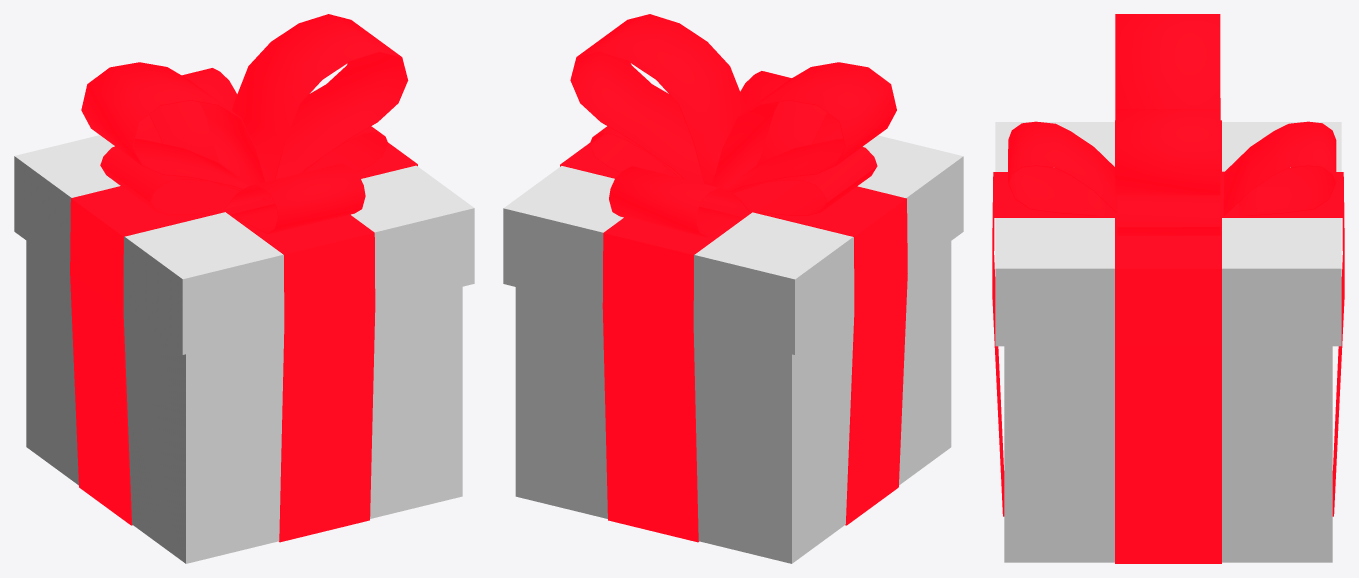
File: gift 2.gltf
3 renders of one model, left to right at view 1: azimuth 30°, elevation 25°; view 2: azimuth 150°, elevation 25°; view 3: azimuth 270°, elevation 25°, orthographic. The views are drawn at different scales.
Parts seen in each view (by area): view 1: Cube_0, Cube.001_3, BezierCurve_6, Plane_4, Plane.001_5, BezierCurve.002_8, BezierCurve.001_7; view 2: Cube_0, Cube.001_3, BezierCurve_6, Plane_4, Plane.001_5, BezierCurve.002_8, BezierCurve.001_7; view 3: Cube_0, Plane.001_5, Cube.001_3, BezierCurve_6, BezierCurve.002_8, Plane_4, BezierCurve.001_7.
Part boxes in pixels (x1=…): Cube_0: x1=26, y1=241, x2=462, y2=563; Cube.001_3: x1=14, y1=90, x2=474, y2=354; BezierCurve_6: x1=81, y1=14, x2=408, y2=200; Plane_4: x1=183, y1=161, x2=375, y2=542; Plane.001_5: x1=70, y1=142, x2=417, y2=525; BezierCurve.002_8: x1=135, y1=68, x2=365, y2=234; BezierCurve.001_7: x1=100, y1=126, x2=388, y2=215; Cube_0: x1=515, y1=241, x2=951, y2=563; Cube.001_3: x1=503, y1=90, x2=963, y2=354; BezierCurve_6: x1=570, y1=14, x2=896, y2=191; Plane_4: x1=602, y1=138, x2=842, y2=542; Plane.001_5: x1=560, y1=143, x2=907, y2=525; BezierCurve.002_8: x1=609, y1=71, x2=842, y2=237; BezierCurve.001_7: x1=589, y1=126, x2=877, y2=215; Cube_0: x1=1004, y1=346, x2=1332, y2=562; Plane.001_5: x1=1115, y1=120, x2=1221, y2=563; Cube.001_3: x1=995, y1=122, x2=1341, y2=346; BezierCurve_6: x1=1115, y1=14, x2=1220, y2=195; BezierCurve.002_8: x1=1008, y1=121, x2=1336, y2=215; Plane_4: x1=992, y1=171, x2=1344, y2=516; BezierCurve.001_7: x1=1117, y1=98, x2=1220, y2=235.
Bounding box in the file's own units: 3.14 × 4.18 × 3.14.
